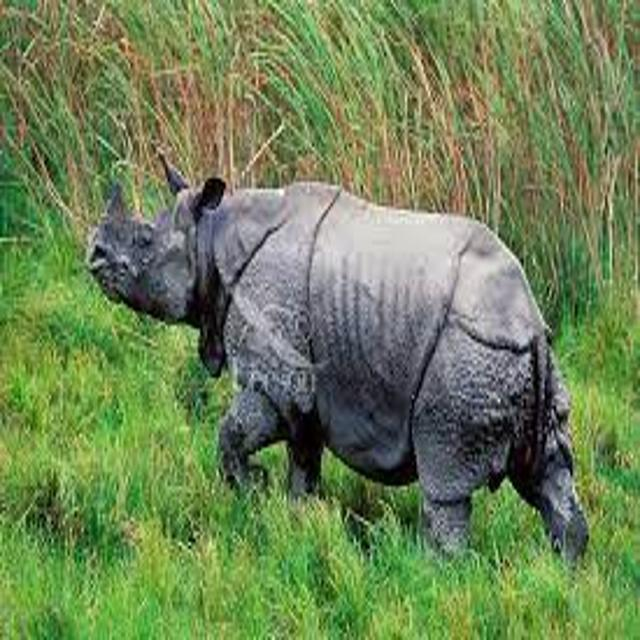rhino: (58, 121, 615, 592)
